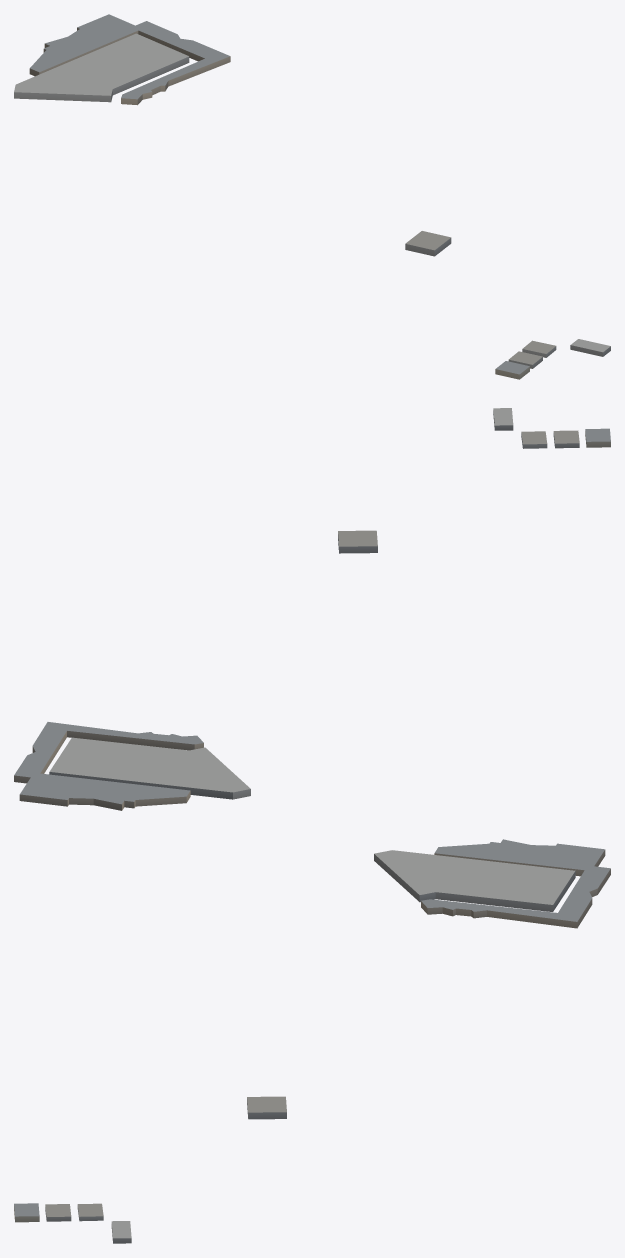
File: bld_13_14.fbx
The picture shows the model from 3 angles, top to bottom: view 1: azimuth 30°, elevation 25°; view 2: azimuth 150°, elevation 25°; view 3: azimuth 330°, elevation 25°; orthographic projection. The views are drawn at different scales.
Parts seen in each view (by area): view 1: bld_13_14_LOD0; view 2: bld_13_14_LOD0; view 3: bld_13_14_LOD0.
Boxes of the visible parts, x1,y1,x2,y2 form: bld_13_14_LOD0: (14, 14, 610, 379); bld_13_14_LOD0: (14, 408, 610, 810); bld_13_14_LOD0: (14, 839, 610, 1243).
Size of the model in its own units: 414 by 12.68 by 1690.
